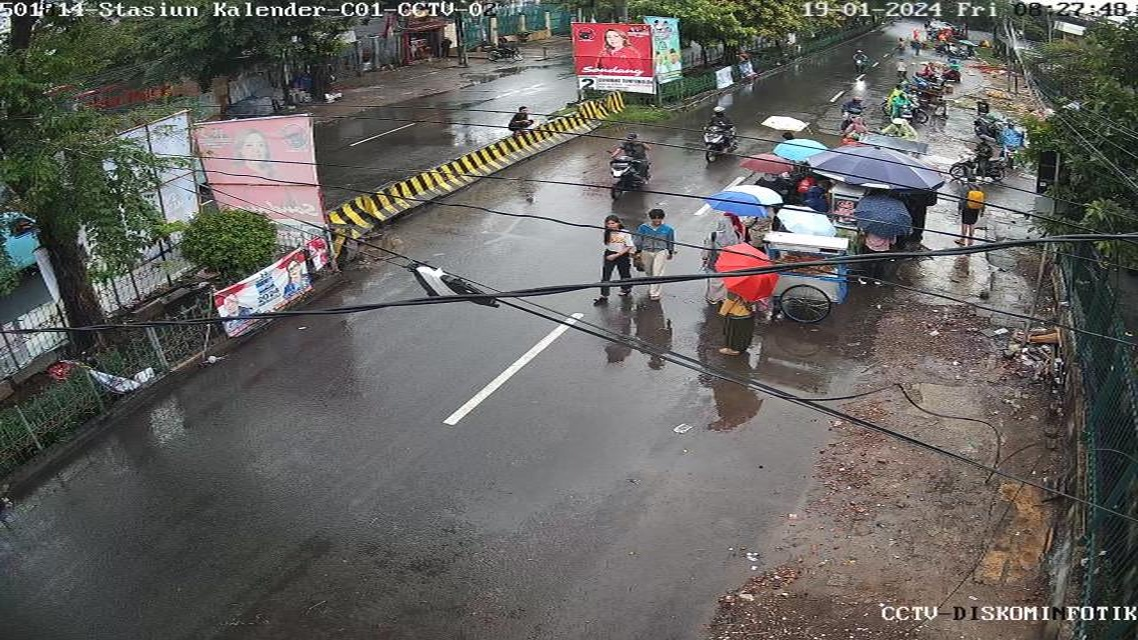Gerobak: (770, 234, 848, 324), (829, 186, 866, 264), (948, 40, 978, 59), (923, 26, 937, 43)
